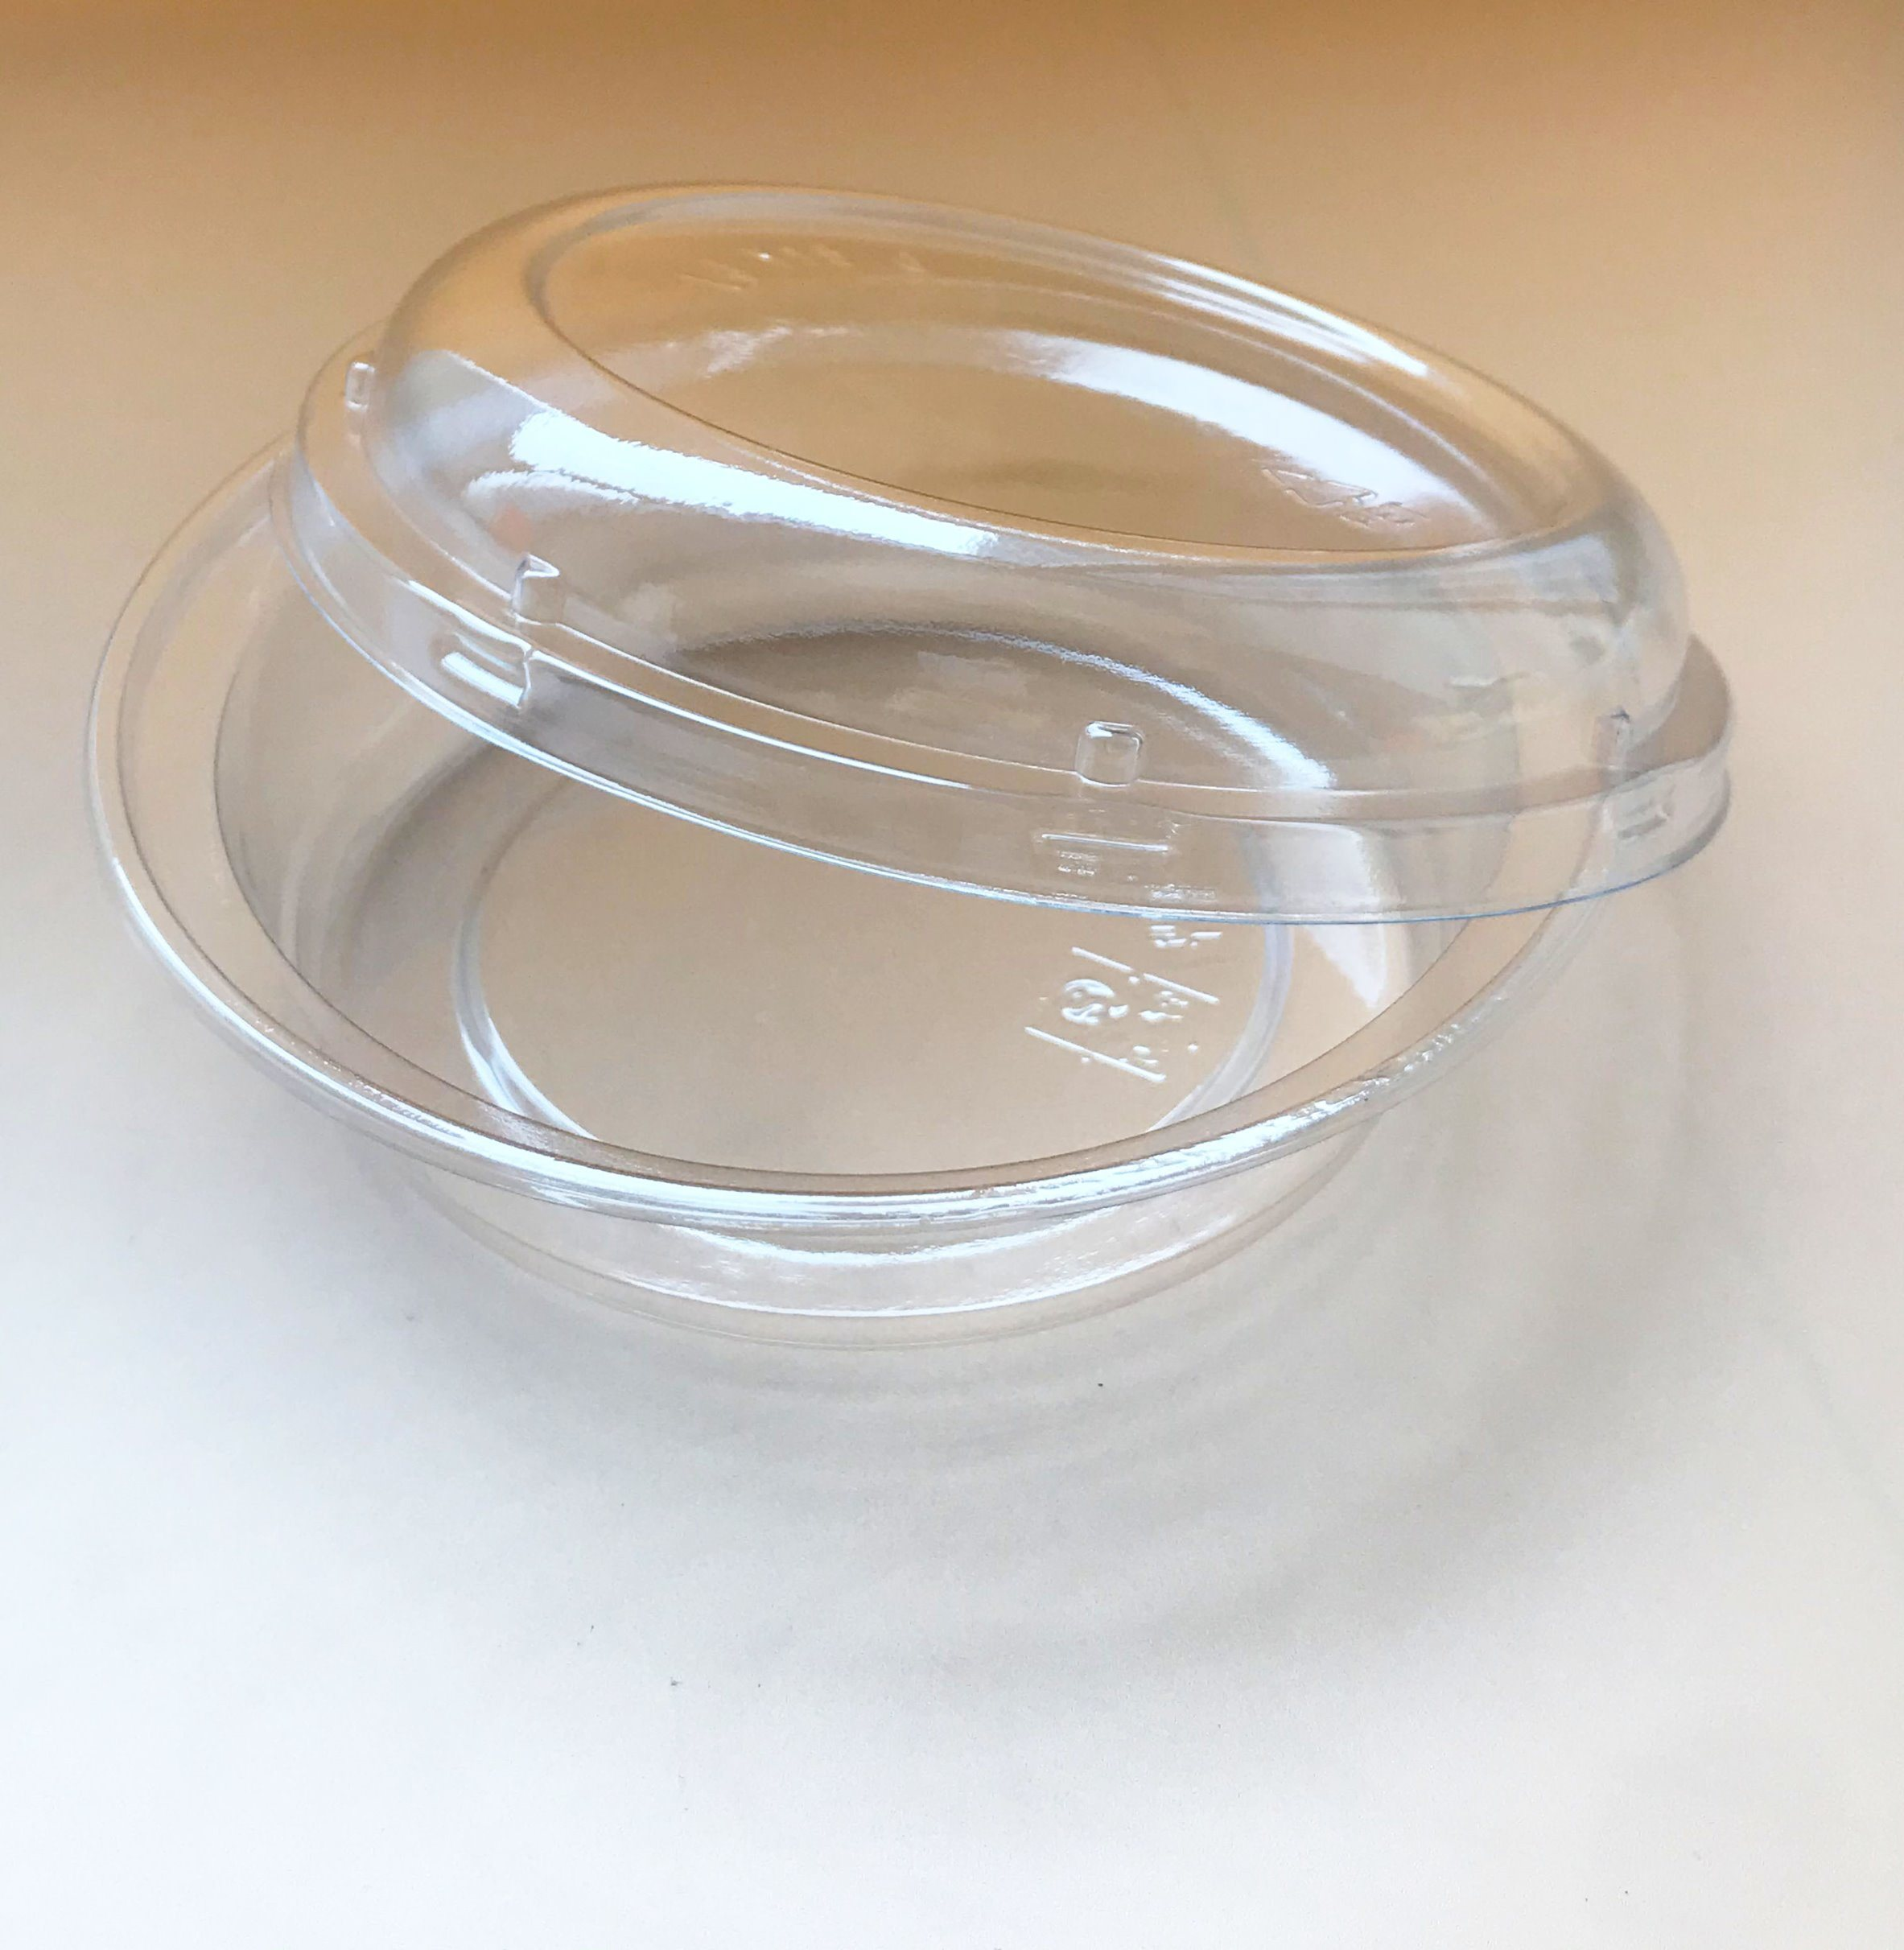PlasticBox: (58, 171, 1759, 1366)
